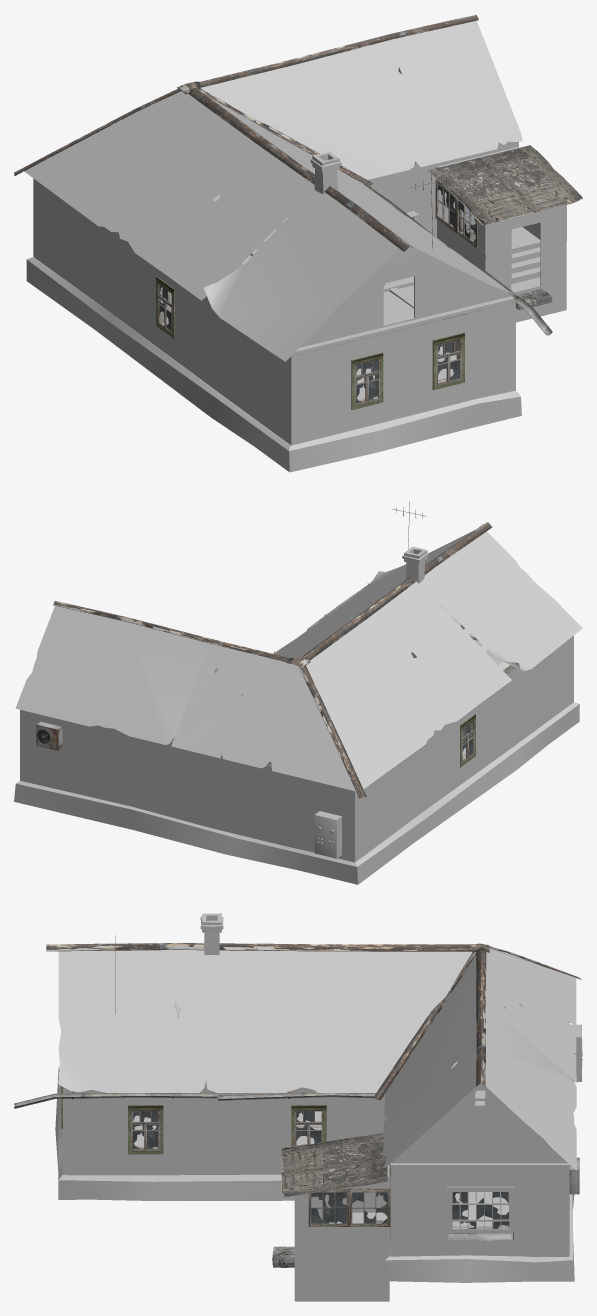
Rendered from Houses_Ready_06_Form2.FBX.
3 renders of one model, top to bottom at view 1: azimuth 30°, elevation 25°; view 2: azimuth 150°, elevation 25°; view 3: azimuth 270°, elevation 25°, orthographic. The views are drawn at different scales.
Visible parts, largest first — view 1: Roof_04_Form2, Corps_02_6, Porch_01, Foundation_04_2, Attic_02_Form2, Peak_02_Form2, Windows_11 (×2), Windows_11_2, Chimney_01, Windows_Porch_04, Drain_02; view 2: Roof_04_Form2, Corps_02_6, Foundation_04_2, Peak_02_Form2, Electrical_Box_01, Air_03, Chimney_01, Windows_11; view 3: Roof_04_Form2, Corps_02_6, Porch_01, Foundation_04_2, Attic_02_Form2, Peak_02_Form2, Drain_02, Windows_Big_02, Windows_Porch_04, Windows_11_2, Windows_11, Chimney_01 (+1 smaller).
Part boxes in pixels (x1,y1,x2,y2): Roof_04_Form2: (24, 20, 525, 361); Corps_02_6: (33, 141, 518, 445); Porch_01: (428, 145, 582, 322); Foundation_04_2: (26, 257, 521, 472); Attic_02_Form2: (213, 65, 514, 356); Peak_02_Form2: (14, 14, 478, 251); Windows_11 (×2): (156, 276, 464, 389); Windows_11_2: (351, 352, 383, 409); Chimney_01: (310, 152, 341, 194); Windows_Porch_04: (435, 179, 477, 248); Drain_02: (363, 183, 552, 335); Roof_04_Form2: (15, 530, 582, 791); Corps_02_6: (20, 635, 573, 862); Foundation_04_2: (14, 702, 579, 884); Peak_02_Form2: (53, 522, 492, 798); Electrical_Box_01: (314, 811, 341, 858); Air_03: (36, 721, 62, 750); Chimney_01: (402, 546, 428, 583); Windows_11: (460, 714, 475, 767); Roof_04_Form2: (58, 948, 576, 1170); Corps_02_6: (63, 1021, 569, 1256); Porch_01: (281, 1133, 390, 1301); Foundation_04_2: (55, 1067, 574, 1282); Attic_02_Form2: (174, 972, 569, 1168); Peak_02_Form2: (46, 943, 581, 1099); Drain_02: (14, 1091, 383, 1108); Windows_Big_02: (446, 1186, 514, 1232); Windows_Porch_04: (308, 1188, 390, 1226); Windows_11_2: (128, 1105, 163, 1154); Windows_11: (291, 1105, 326, 1146); Chimney_01: (200, 913, 223, 954).
Bounding box in the file's own units: 1524 × 1813 × 906.
